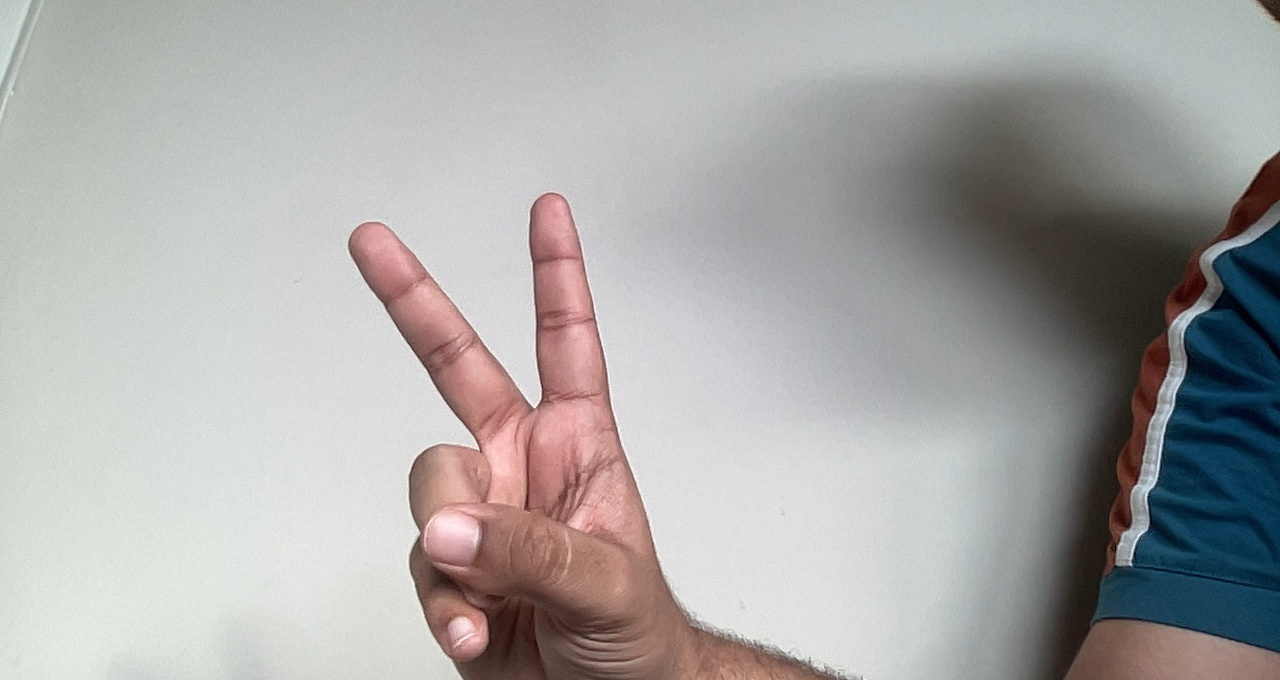peace sign: (326, 171, 713, 680)
